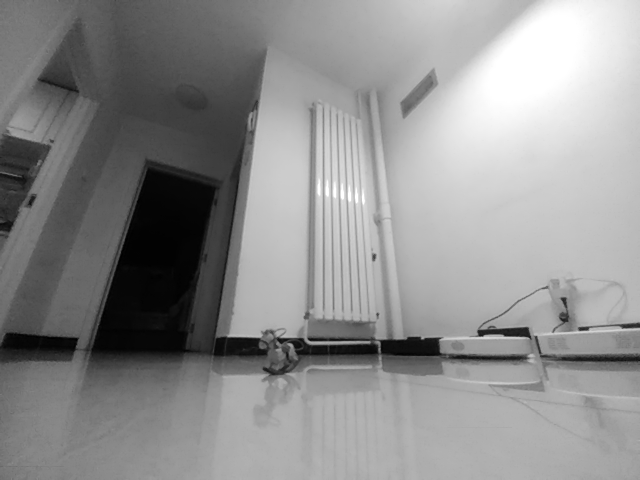toy: (257, 326, 299, 376)
